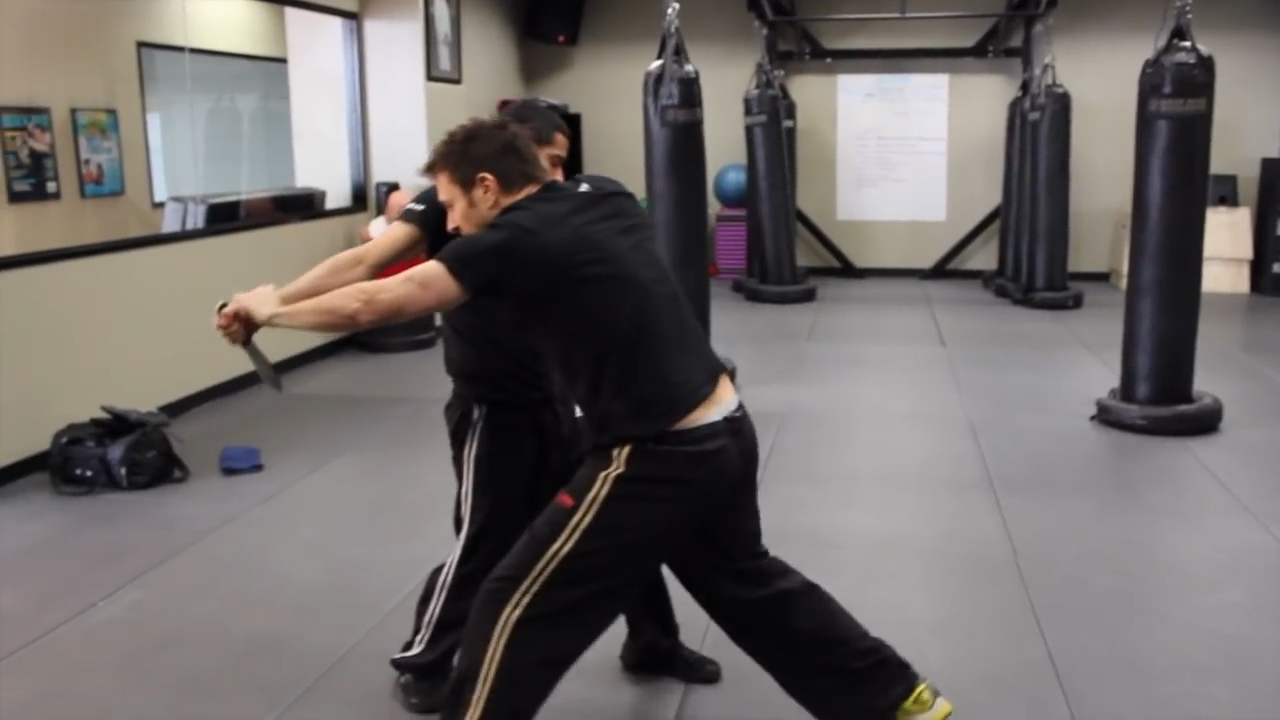knife: (211, 298, 292, 398)
